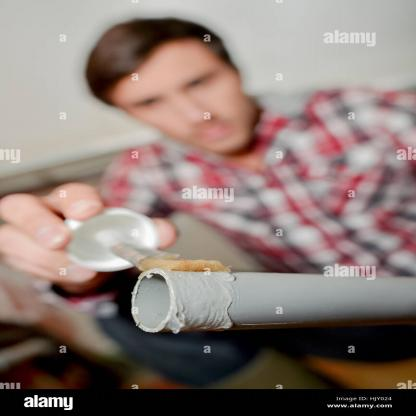PVC: (129, 268, 416, 333)
